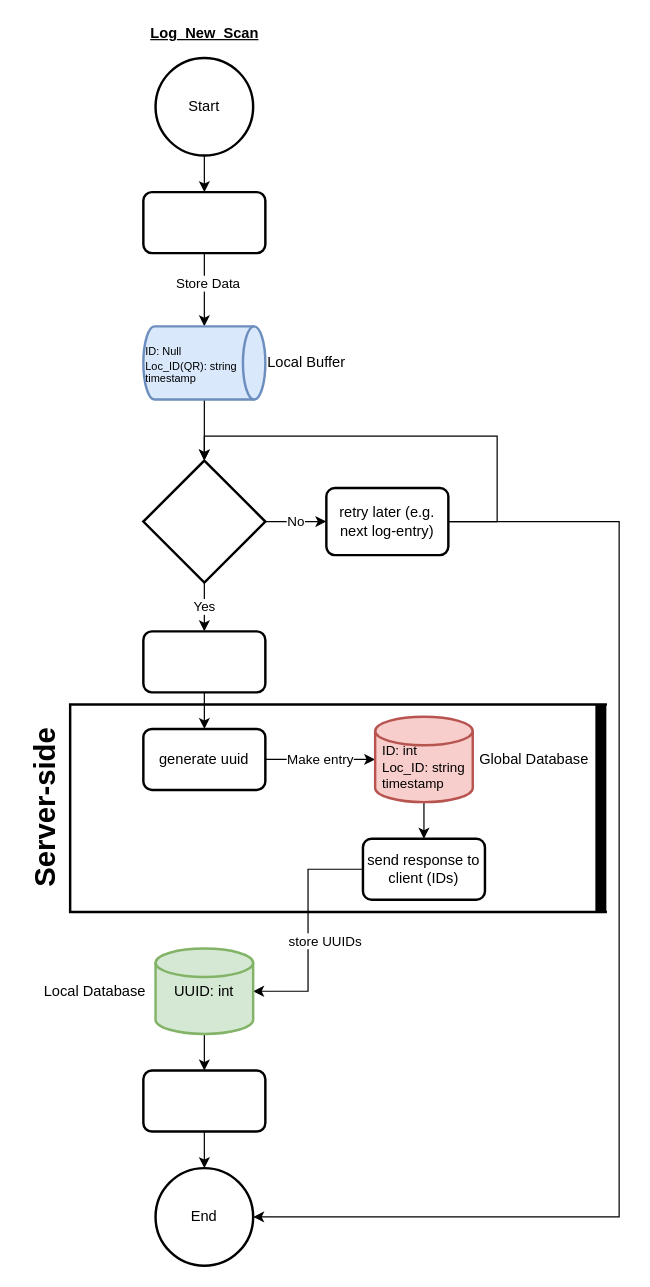
The diagram is 650 pixels wide and 1287 high, and some of its shapes have lost their labels. Here are the shapes that lost their labels. From the top down, the centre of each, then its label:
At (x=204, y=222): "Scan location QR-Code".
At (x=204, y=521): "Internet connection?".
At (x=204, y=661): "send server request".
At (x=204, y=1100): "clear local buffer".
